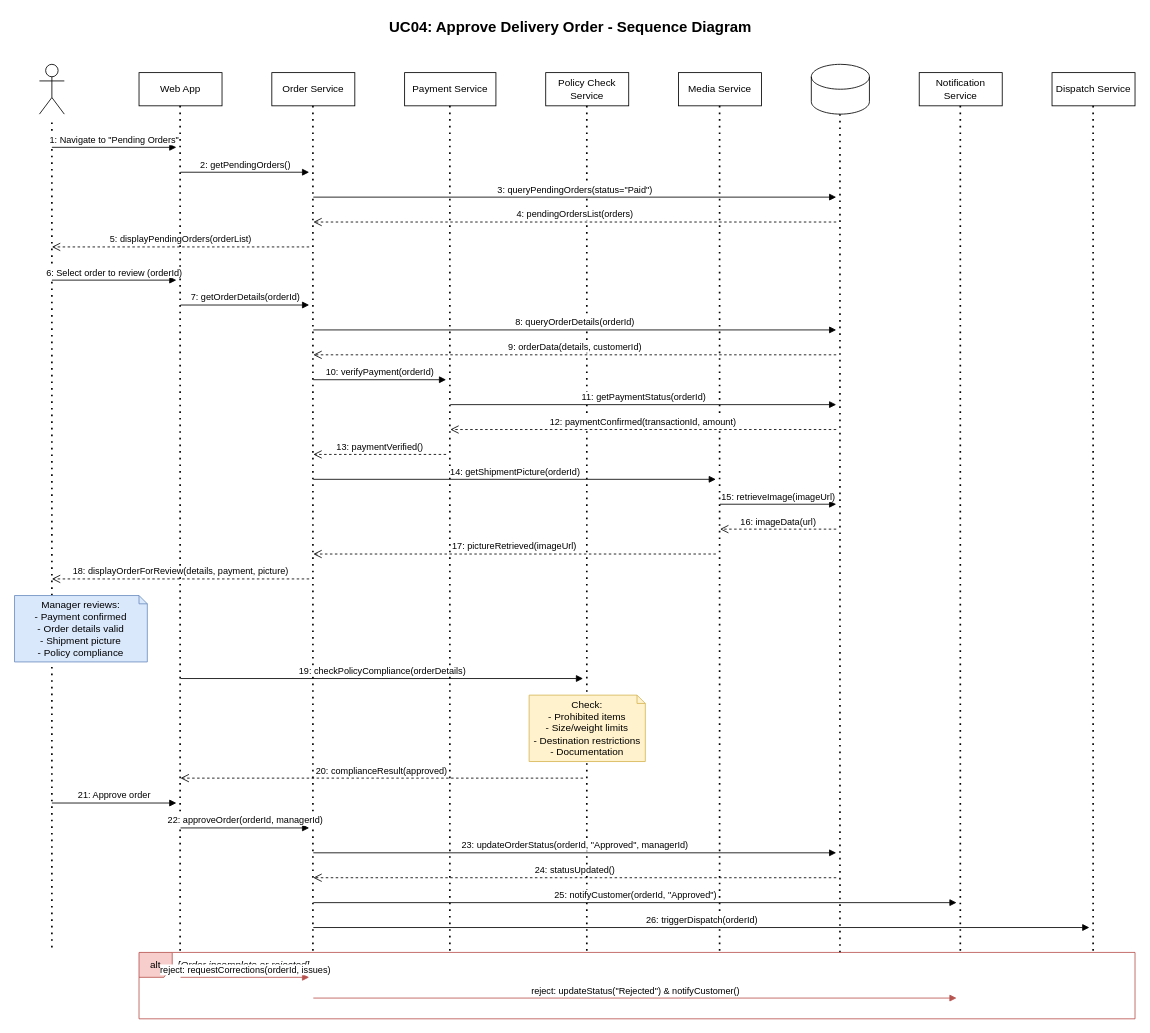
This 1150x1033 diagram has some shape labels left out. Here are the shapes that lost their labels. From the top down, the centre of each, then its label:
At (x=51, y=88): "Manager".
At (x=839, y=88): "Database".
